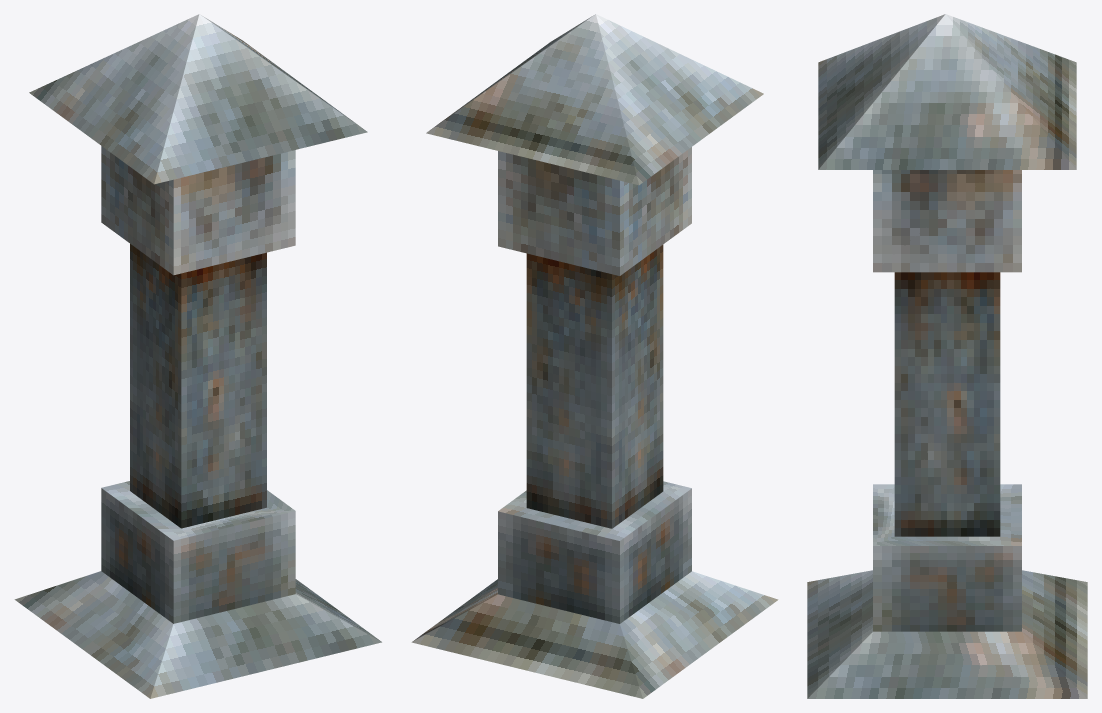
3 views of the same model, side by side, from view 1: azimuth 30°, elevation 25°; view 2: azimuth 150°, elevation 25°; view 3: azimuth 270°, elevation 25° (orthographic). The views are drawn at different scales.
Visible parts, largest first — view 1: prim213-chimney; view 2: prim213-chimney; view 3: prim213-chimney.
Boxes of the visible parts, x1,y1,x2,y2 form: prim213-chimney: (14,14,381,698); prim213-chimney: (411,14,778,698); prim213-chimney: (807,14,1087,698).
Size of the model in its own units: 76 by 190 by 77.
Materials: 2 (2 with a texture image).
